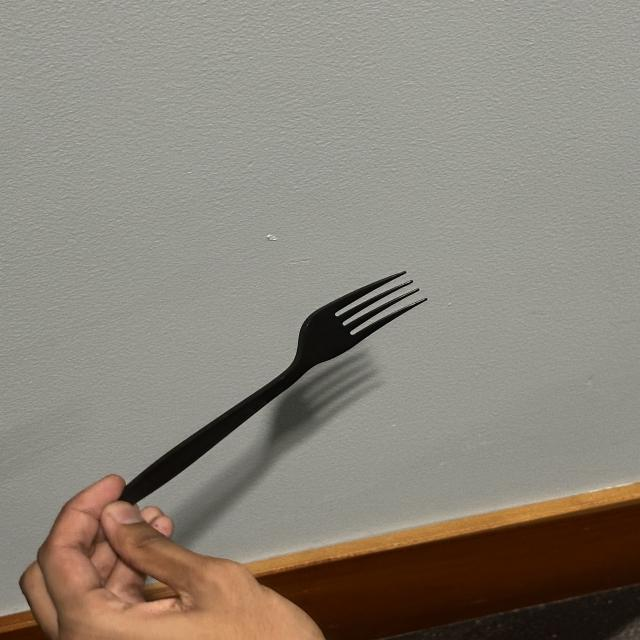fork: (108, 235, 455, 518)
